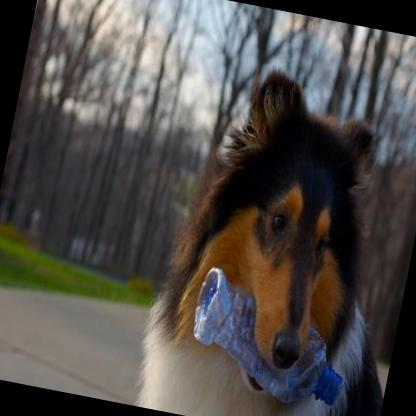collie: (124, 46, 416, 416)
